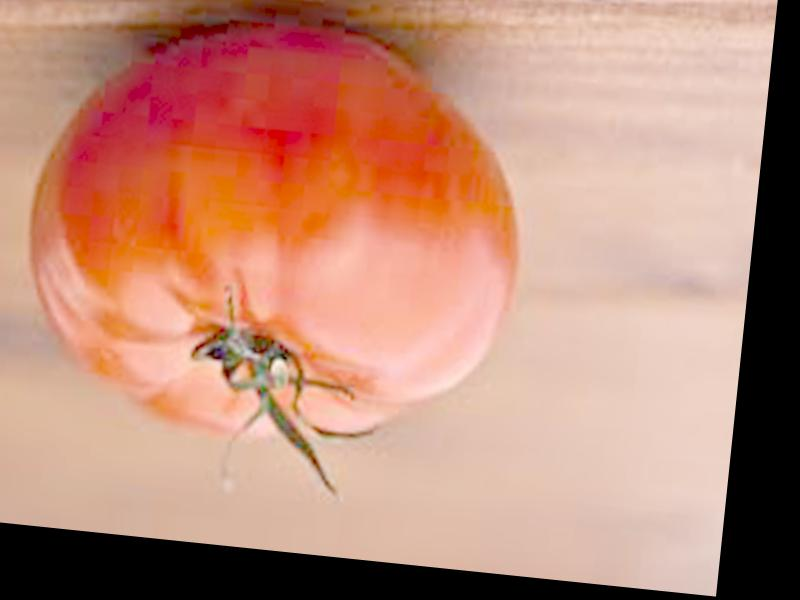Tomato: (12, 0, 544, 465)
